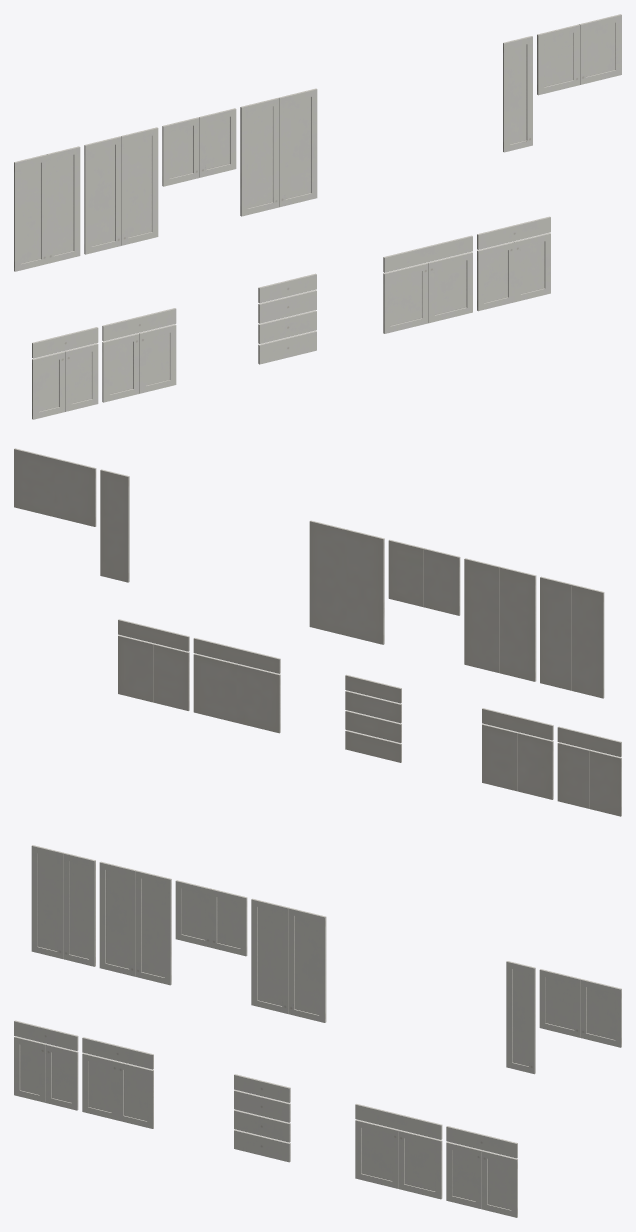
Rendered from same_seed_kitchen_fronts.glb.
3 views of the same model, one above another, from view 1: azimuth 30°, elevation 25°; view 2: azimuth 150°, elevation 25°; view 3: azimuth 330°, elevation 25° (orthographic). The views are drawn at different scales.
Parts seen in each view (by area): view 1: wall_c_fronts_low, wall_b_fronts_low, wall_a_fronts_low, base_sink_fronts_low, base_b_fronts_low, base_c_fronts_low, wall_over_fridge_fronts_low, base_a_fronts_low, wall_over_hood_fronts_low, base_drawers_fronts_low, wall_d_fronts_low; view 2: wall_c_fronts_low, wall_b_fronts_low, wall_a_fronts_low, base_sink_fronts_low, base_c_fronts_low, base_b_fronts_low, wall_over_fridge_fronts_low, base_a_fronts_low, wall_over_hood_fronts_low, base_drawers_fronts_low, wall_d_fronts_low; view 3: wall_c_fronts_low, wall_b_fronts_low, wall_a_fronts_low, base_sink_fronts_low, base_c_fronts_low, base_b_fronts_low, wall_over_fridge_fronts_low, base_a_fronts_low, wall_over_hood_fronts_low, base_drawers_fronts_low, wall_d_fronts_low.
Part boxes in pixels (box(x1,y1,x2,y2)): wall_c_fronts_low: box(240, 88, 317, 216); wall_b_fronts_low: box(84, 127, 158, 254); wall_a_fronts_low: box(14, 146, 80, 271); base_sink_fronts_low: box(383, 235, 472, 333); base_b_fronts_low: box(102, 308, 176, 402); base_c_fronts_low: box(477, 216, 550, 311); wall_over_fridge_fronts_low: box(537, 14, 621, 95); base_a_fronts_low: box(32, 327, 98, 419); wall_over_hood_fronts_low: box(162, 108, 236, 186); base_drawers_fronts_low: box(258, 273, 316, 364); wall_d_fronts_low: box(503, 36, 532, 152); wall_c_fronts_low: box(309, 520, 384, 644); wall_b_fronts_low: box(464, 558, 536, 681); wall_a_fronts_low: box(540, 576, 604, 698); base_sink_fronts_low: box(193, 638, 280, 733); base_c_fronts_low: box(118, 619, 189, 710); base_b_fronts_low: box(482, 708, 553, 799); wall_over_fridge_fronts_low: box(14, 448, 96, 526); base_a_fronts_low: box(557, 726, 621, 816); wall_over_hood_fronts_low: box(388, 539, 460, 615); base_drawers_fronts_low: box(345, 674, 401, 762); wall_d_fronts_low: box(100, 469, 129, 582); wall_c_fronts_low: box(251, 898, 326, 1022); wall_b_fronts_low: box(99, 861, 171, 985); wall_a_fronts_low: box(31, 845, 95, 966); base_sink_fronts_low: box(355, 1104, 442, 1199); base_c_fronts_low: box(446, 1126, 517, 1217); base_b_fronts_low: box(82, 1037, 153, 1128); wall_over_fridge_fronts_low: box(539, 969, 621, 1047); base_a_fronts_low: box(14, 1020, 78, 1110); wall_over_hood_fronts_low: box(175, 880, 247, 956); base_drawers_fronts_low: box(234, 1074, 290, 1162); wall_d_fronts_low: box(506, 961, 535, 1074).
Size of the model in its own units: 5.92 by 2.27 by 0.324.
1 material, 1 textured.
